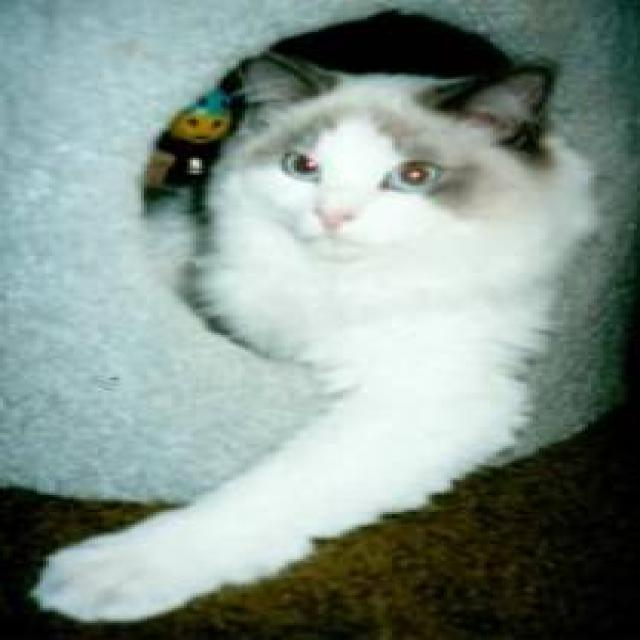Ragdoll: (211, 42, 581, 296)
